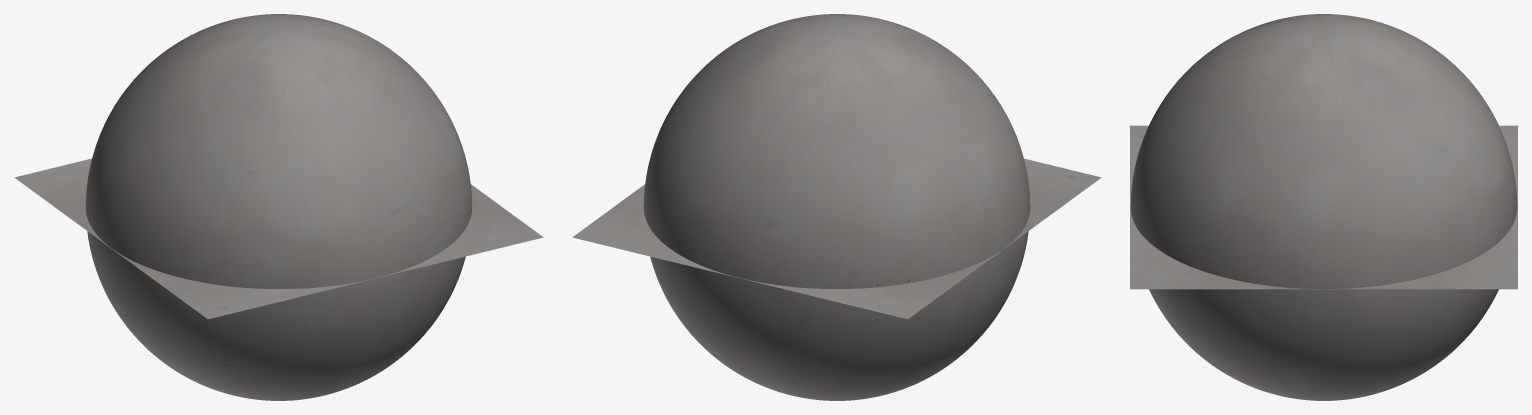
The model's file is plastered_wall_04_2k.fbx.
3 renders of one model, left to right at view 1: azimuth 30°, elevation 25°; view 2: azimuth 150°, elevation 25°; view 3: azimuth 270°, elevation 25°, orthographic.
Parts seen in each view (by area): view 1: Sphere, Plane; view 2: Sphere, Plane; view 3: Sphere, Plane.
Boxes of the visible parts, x1,y1,x2,y2 form: Sphere: (85, 14, 472, 400); Plane: (14, 158, 543, 319); Sphere: (643, 14, 1030, 400); Plane: (572, 158, 1101, 319); Sphere: (1130, 14, 1517, 400); Plane: (1130, 125, 1517, 289).
Size of the model in its own units: 320 by 320 by 320.
